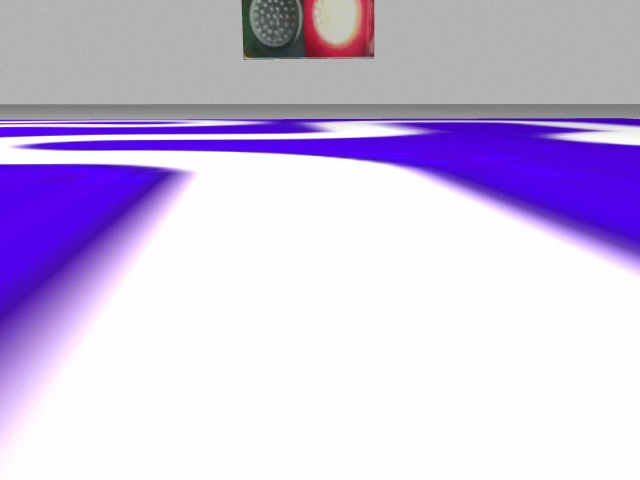red: (303, 2, 374, 57)
